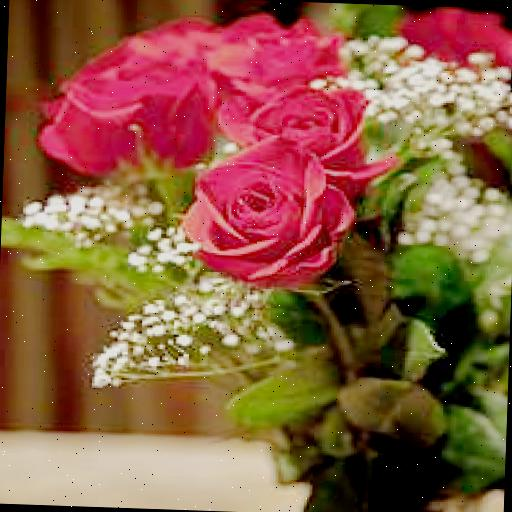rose: (178, 132, 350, 289), (214, 74, 404, 178)
